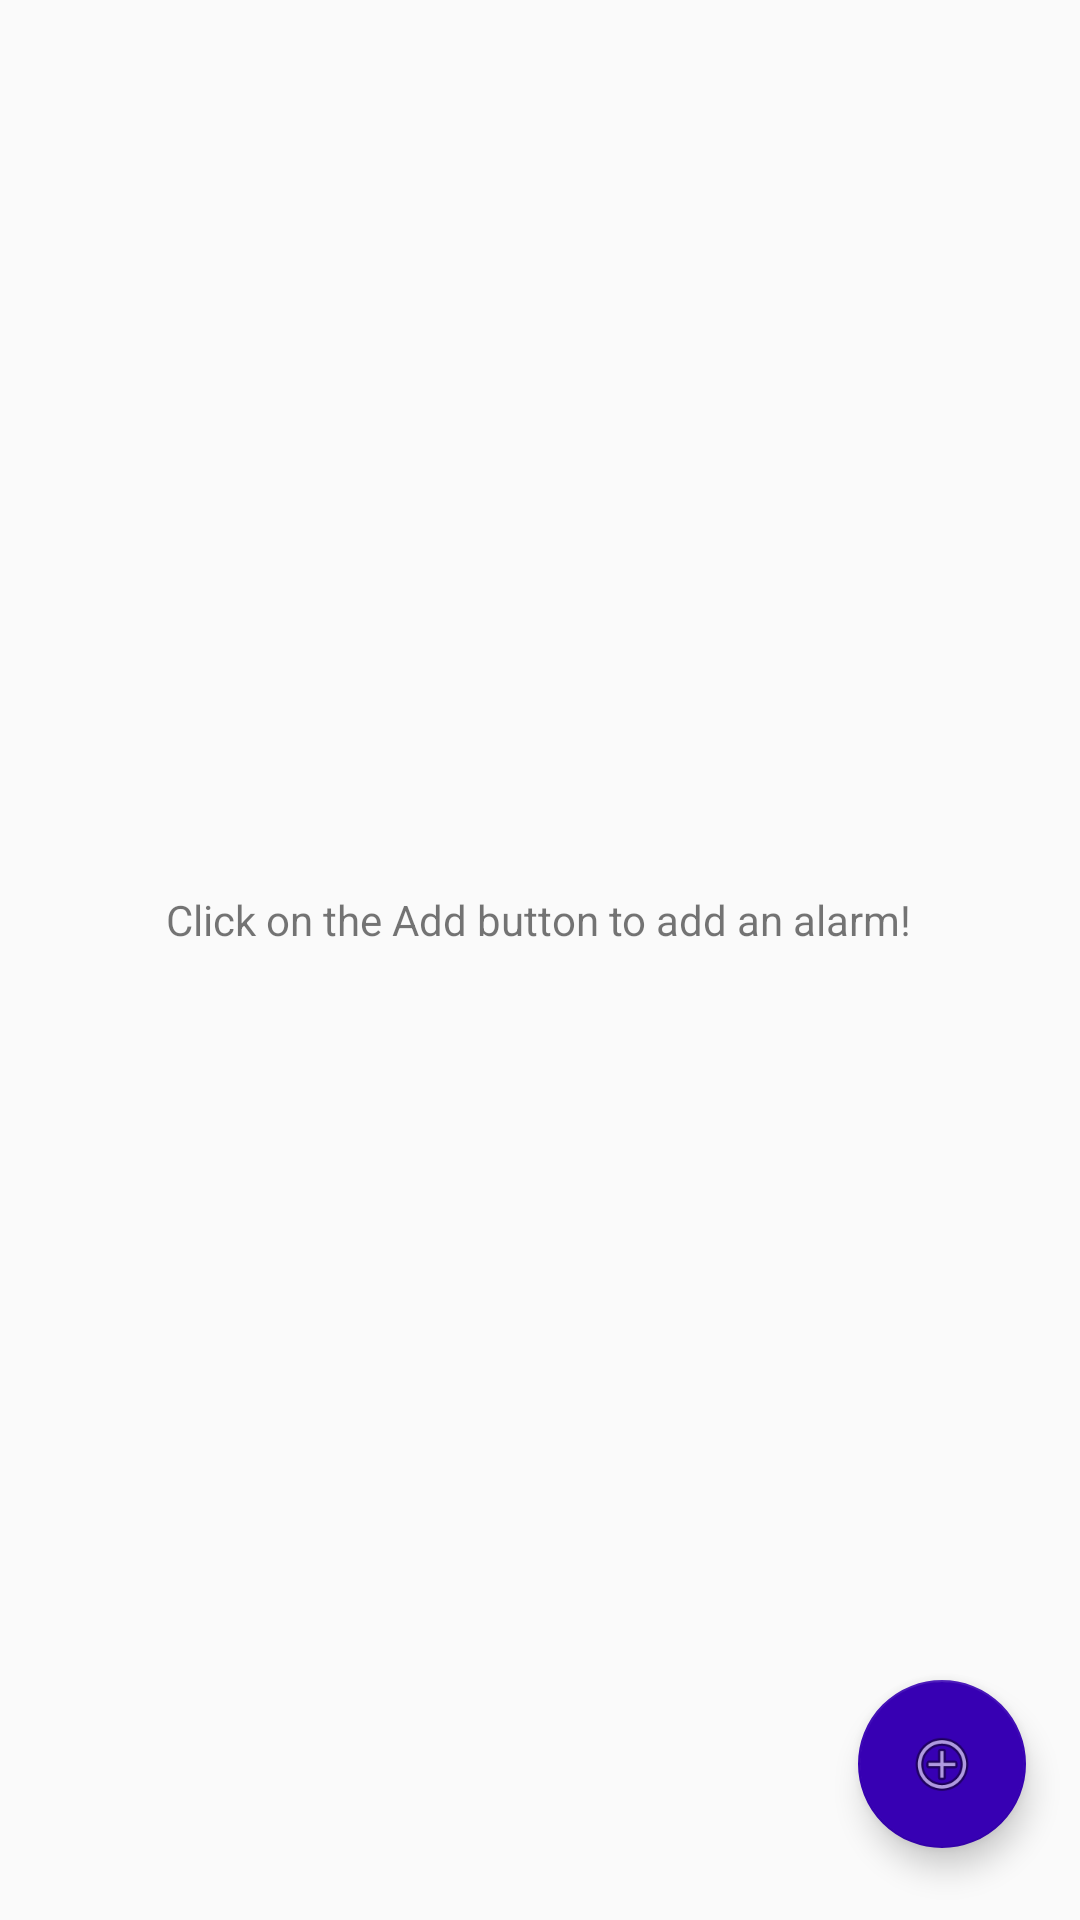

Locate icon controls on the screen. Image size 1080 × 1920, boxes as (x1, y1, x2, y2).
add: (858, 1680, 1026, 1848)
